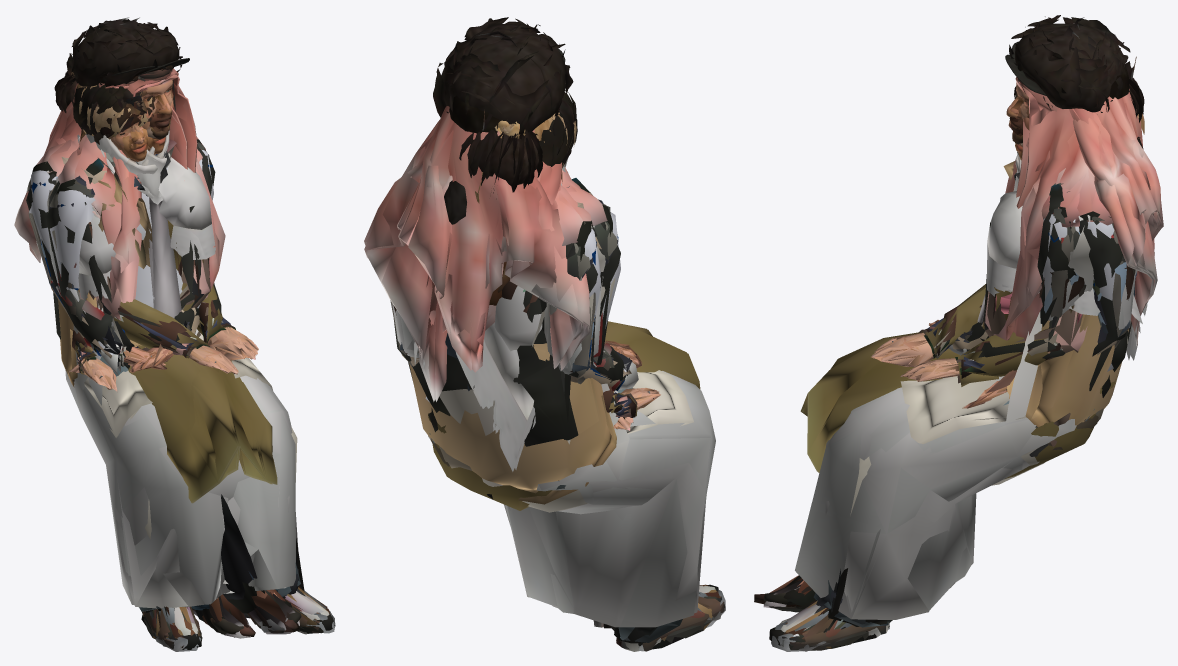
Rendered from crowd.a1a787aa.glb.
3 renders of one model, left to right at view 1: azimuth 30°, elevation 25°; view 2: azimuth 150°, elevation 25°; view 3: azimuth 270°, elevation 25°, orthographic. The views are drawn at different scales.
Visible parts, largest first — view 1: crowd-Male_Adult_19-right-near-mesh, crowd-Female_Adult_06-left-near-mesh, crowd-Female_Adult_06-right-near-mesh, crowd-Male_Adult_19-left-near-mesh, crowd-Male_Adult_21-right-near-mesh, crowd-Male_Adult_04-right-near-mesh, crowd-Business_Male_07-left-near-mesh, crowd-Female_Adult_06-left-far-mesh, crowd-Female_Adult_06-right-far-mesh, crowd-Business_Male_07-right-near-mesh, crowd-Male_Adult_04-left-near-mesh, crowd-Male_Adult_19-right-far-mesh (+28 smaller); view 2: crowd-Male_Adult_21-right-near-mesh, crowd-Male_Adult_19-right-near-mesh, crowd-Male_Adult_21-left-near-mesh, crowd-Male_Adult_21-right-far-mesh, crowd-Male_Adult_04-right-near-mesh, crowd-Female_Adult_06-left-near-mesh, crowd-Male_Adult_05-left-near-mesh, crowd-Male_Adult_04-left-near-mesh, crowd-Male_Adult_05-right-near-mesh, crowd-Male_Adult_04-right-far-mesh, crowd-Male_Adult_19-right-far-mesh, crowd-Male_Adult_15-right-near-mesh (+15 smaller); view 3: crowd-Male_Adult_19-left-near-mesh, crowd-Male_Adult_21-right-near-mesh, crowd-Male_Adult_21-left-near-mesh, crowd-Male_Adult_19-right-near-mesh, crowd-Female_Adult_06-right-near-mesh, crowd-Male_Adult_04-left-near-mesh, crowd-Male_Adult_05-left-near-mesh, crowd-Male_Adult_15-left-near-mesh, crowd-Female_Adult_06-right-far-mesh, crowd-Female_Adult_06-left-near-mesh, crowd-Male_Adult_04-right-near-mesh, crowd-Male_Adult_21-right-far-mesh (+14 smaller).
Boxes of the visible parts, <box> form: crowd-Male_Adult_19-right-near-mesh: <box>36,81,307,649</box>; crowd-Female_Adult_06-left-near-mesh: <box>78,130,300,634</box>; crowd-Female_Adult_06-right-near-mesh: <box>75,130,301,634</box>; crowd-Male_Adult_19-left-near-mesh: <box>50,70,326,642</box>; crowd-Male_Adult_21-right-near-mesh: <box>14,78,333,640</box>; crowd-Male_Adult_04-right-near-mesh: <box>26,19,316,606</box>; crowd-Business_Male_07-left-near-mesh: <box>49,91,298,636</box>; crowd-Female_Adult_06-left-far-mesh: <box>78,143,270,483</box>; crowd-Female_Adult_06-right-far-mesh: <box>77,125,272,634</box>; crowd-Business_Male_07-right-near-mesh: <box>29,150,300,647</box>; crowd-Male_Adult_04-left-near-mesh: <box>46,20,323,629</box>; crowd-Male_Adult_19-right-far-mesh: <box>51,115,298,638</box>; crowd-Male_Adult_21-right-near-mesh: <box>364,106,721,627</box>; crowd-Male_Adult_19-right-near-mesh: <box>429,185,724,651</box>; crowd-Male_Adult_21-left-near-mesh: <box>364,141,721,626</box>; crowd-Male_Adult_21-right-far-mesh: <box>367,130,709,610</box>; crowd-Male_Adult_04-right-near-mesh: <box>443,24,629,446</box>; crowd-Female_Adult_06-left-near-mesh: <box>423,322,700,510</box>; crowd-Male_Adult_05-left-near-mesh: <box>409,346,716,617</box>; crowd-Male_Adult_04-left-near-mesh: <box>393,17,700,585</box>; crowd-Male_Adult_05-right-near-mesh: <box>518,343,712,640</box>; crowd-Male_Adult_04-right-far-mesh: <box>441,26,572,331</box>; crowd-Male_Adult_19-right-far-mesh: <box>507,191,709,607</box>; crowd-Male_Adult_15-right-near-mesh: <box>488,294,718,651</box>; crowd-Male_Adult_19-left-near-mesh: <box>790,77,1136,643</box>; crowd-Male_Adult_21-right-near-mesh: <box>782,89,1163,641</box>; crowd-Male_Adult_21-left-near-mesh: <box>825,78,1159,564</box>; crowd-Male_Adult_19-right-near-mesh: <box>789,119,1089,650</box>; crowd-Female_Adult_06-right-near-mesh: <box>763,154,1132,604</box>; crowd-Male_Adult_04-left-near-mesh: <box>786,23,1131,626</box>; crowd-Male_Adult_05-left-near-mesh: <box>786,106,1128,630</box>; crowd-Male_Adult_15-left-near-mesh: <box>806,99,1131,635</box>; crowd-Female_Adult_06-right-far-mesh: <box>786,157,1142,604</box>; crowd-Female_Adult_06-left-near-mesh: <box>765,153,1147,596</box>; crowd-Male_Adult_04-right-near-mesh: <box>799,15,1136,618</box>; crowd-Male_Adult_21-right-far-mesh: <box>814,103,1158,613</box>.
Size of the model in its own units: 0.5391 by 1.56 by 0.9831.
Materials: 2 (2 with a texture image).
